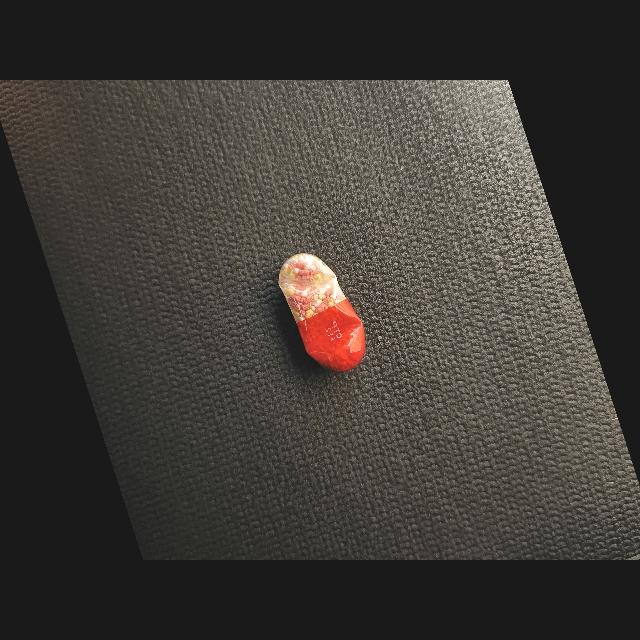Defective Capsule: (278, 253, 366, 372)
